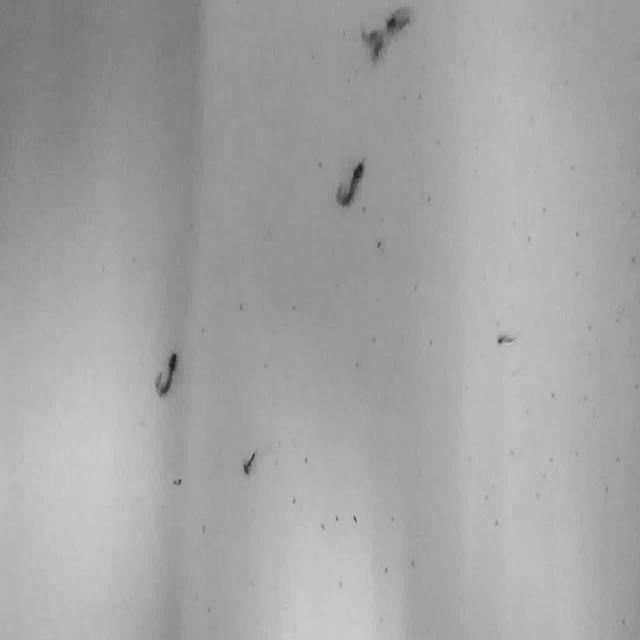larvas: (336, 158, 364, 206), (154, 350, 178, 396), (360, 24, 384, 60), (242, 447, 258, 474), (386, 12, 411, 28), (497, 332, 518, 342)
